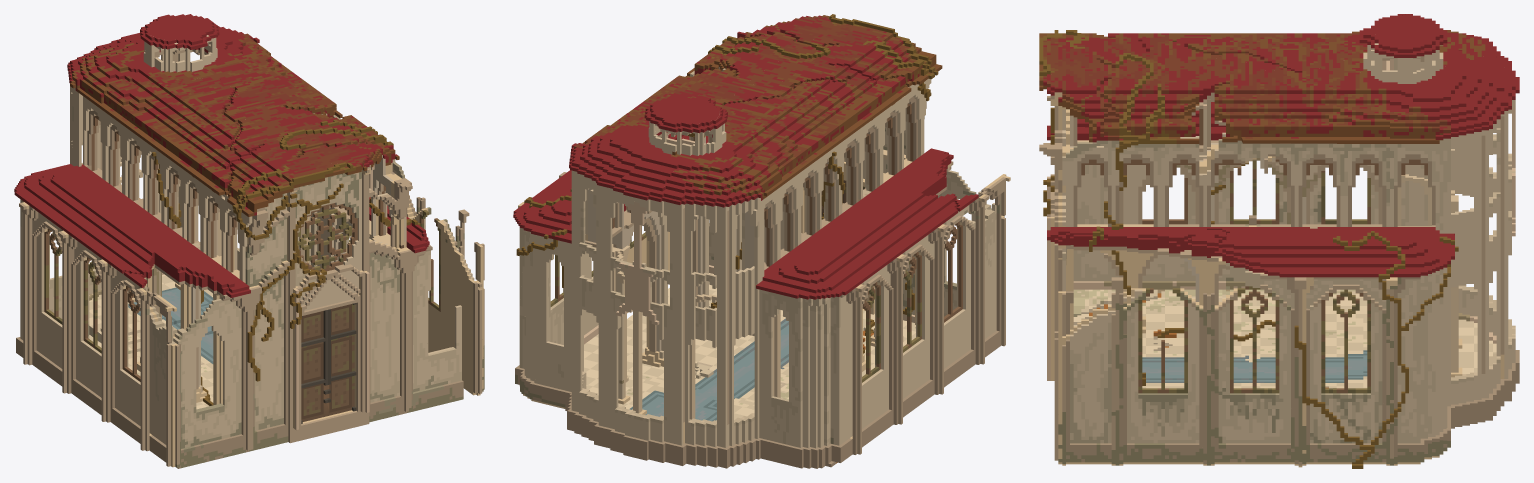
Rendered from Church.fbx.
3 views of the same model, side by side, from view 1: azimuth 30°, elevation 25°; view 2: azimuth 150°, elevation 25°; view 3: azimuth 270°, elevation 25° (orthographic). The views are drawn at different scales.
Visible parts, largest first — view 1: church1, disapear_area1, door1, door2, polySurface4, disapear_area2; view 2: church1, disapear_area1, disapear_area2; view 3: church1, disapear_area1, disapear_area2, polySurface4.
Part boxes in pixels (x1,y1,x2,y2): church1: (14,14,484,468); disapear_area1: (98,14,432,354); door1: (326,303,356,416); door2: (301,310,327,423); polySurface4: (434,209,470,274); disapear_area2: (298,205,390,265); church1: (515,14,1010,468); disapear_area1: (513,15,838,382); disapear_area2: (612,138,741,379); church1: (1039,14,1519,468); disapear_area1: (1039,14,1519,447); disapear_area2: (1077,215,1431,305); polySurface4: (1077,277,1153,410).
Bounding box in the file's own units: 116 × 100 × 126.
